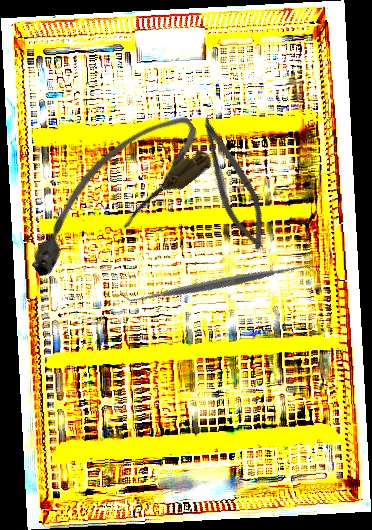Cannula: (5, 101, 220, 289)
Micro Scissor: (185, 112, 279, 255)
Spatula Surgical: (121, 186, 314, 381)
